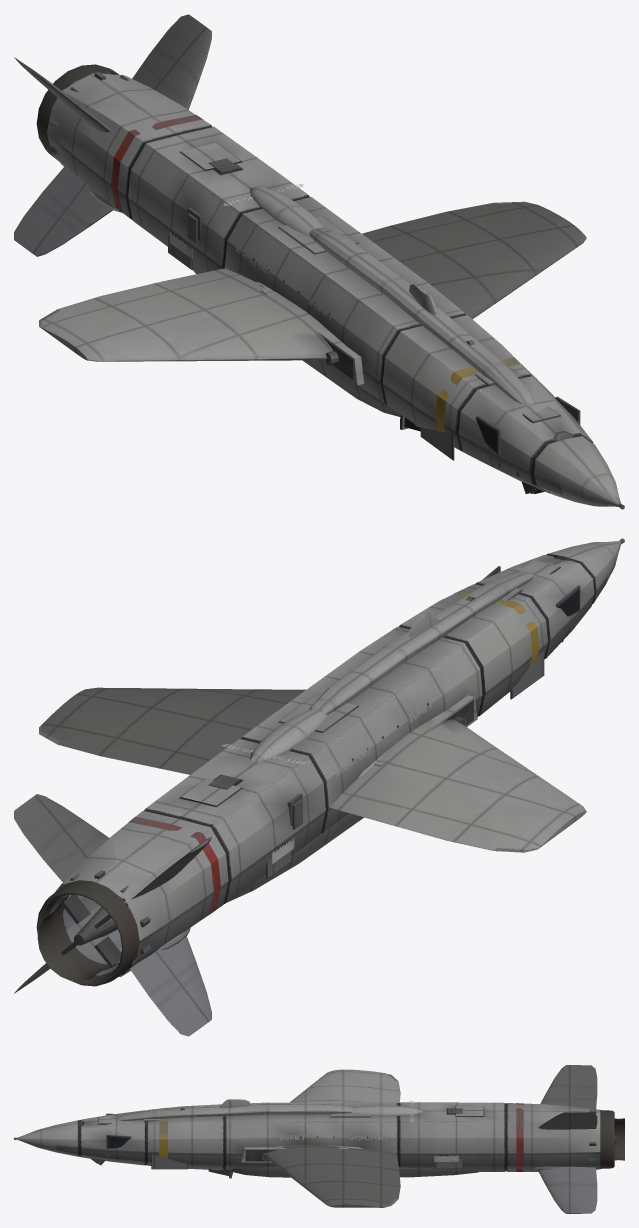
Rendered from missile_asm.glb.
3 views of the same model, one above another, from view 1: azimuth 30°, elevation 25°; view 2: azimuth 150°, elevation 25°; view 3: azimuth 270°, elevation 25° (orthographic). The views are drawn at different scales.
Visible parts, largest first — view 1: asm_body, asm_detail; view 2: asm_body, asm_detail; view 3: asm_body, asm_detail.
Boxes of the visible parts, x1,y1,x2,y2 form: asm_body: [14, 14, 620, 506]; asm_detail: [49, 71, 624, 509]; asm_body: [14, 541, 621, 1036]; asm_detail: [61, 538, 624, 974]; asm_body: [17, 1065, 624, 1213]; asm_detail: [14, 1099, 616, 1178].
Bounding box in the file's own units: 2.2 × 0.7841 × 4.21.
Materials: 9 (9 with a texture image).
